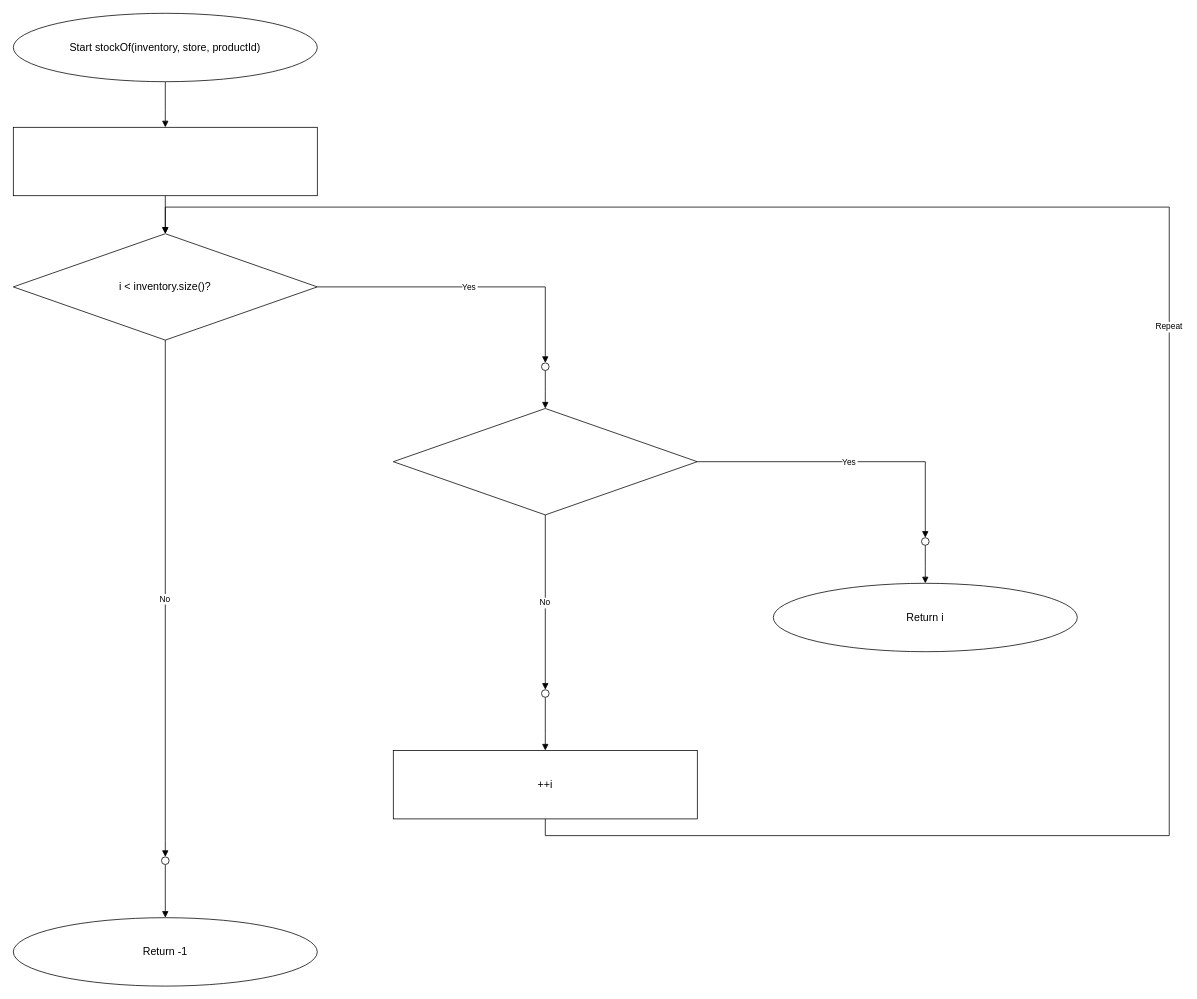
This 1197x999 diagram has some shape labels left out. The centre of each missing label's shape, as x and y in pixels:
"i = 0" belongs at point 165,161.
"storeId == store && productId matches?" belongs at point 545,461.
